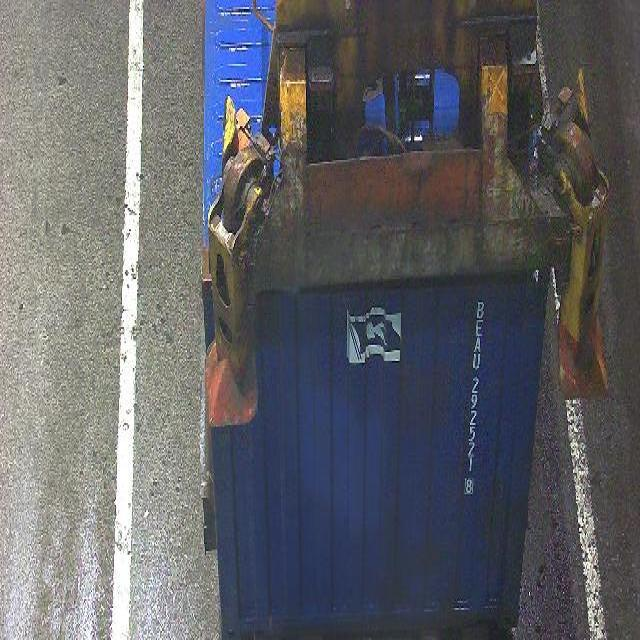container_number: (463, 288, 488, 506)
